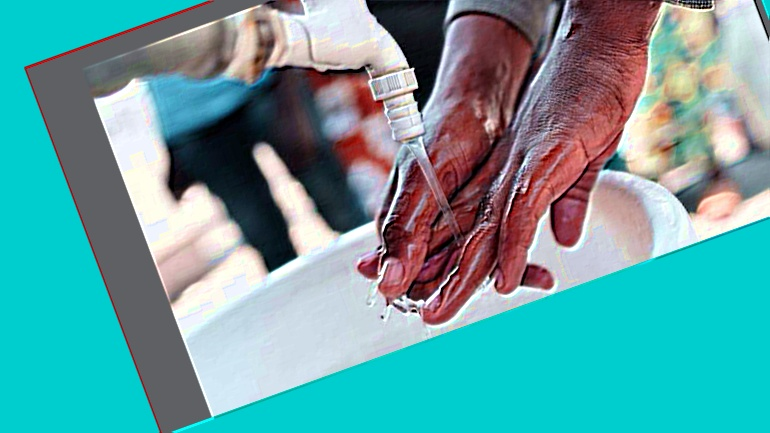washing hand: (230, 0, 739, 364)
